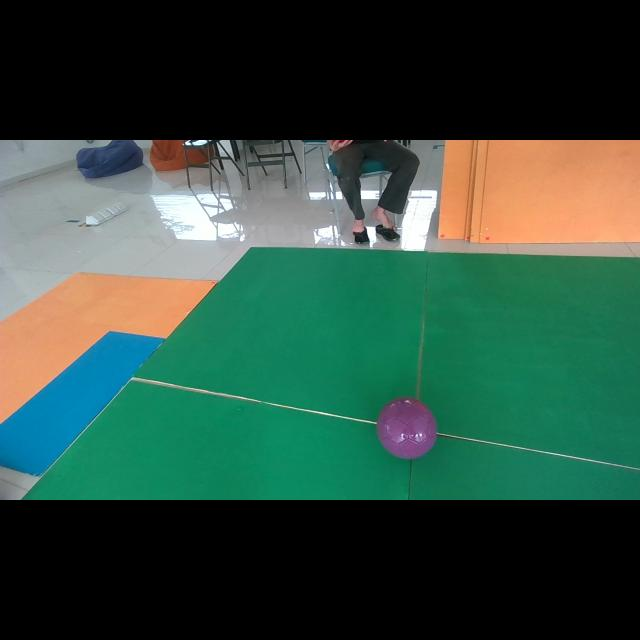P: (376, 398, 438, 459)
